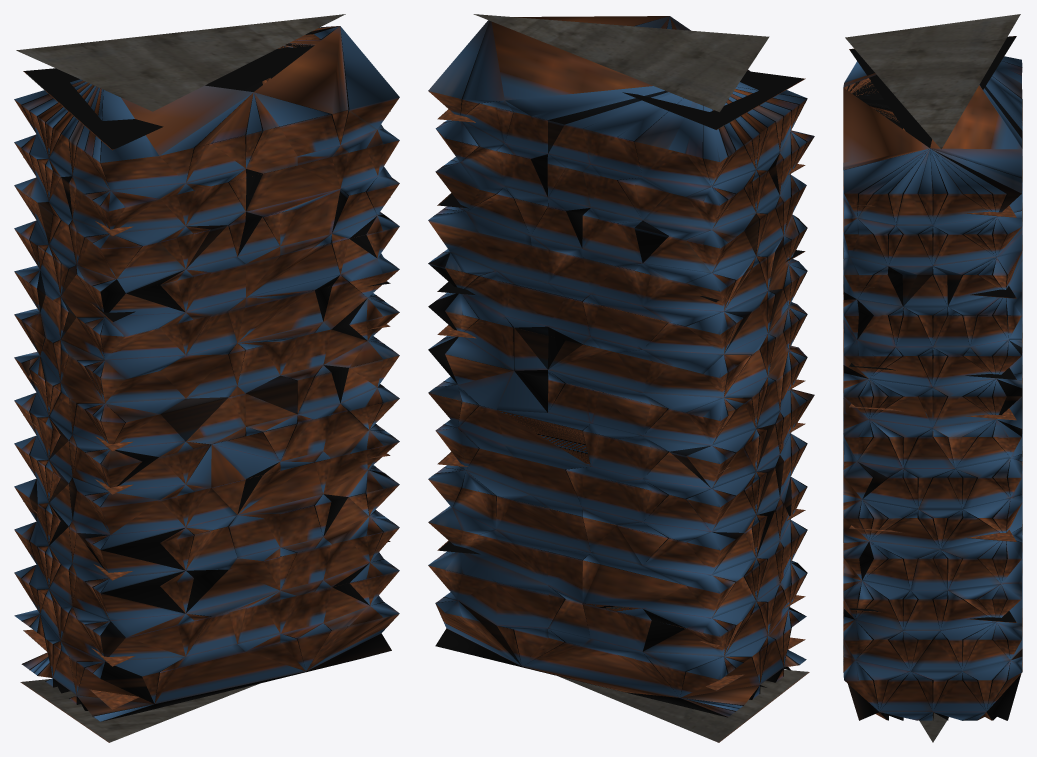
3 views of the same model, side by side, from view 1: azimuth 30°, elevation 25°; view 2: azimuth 150°, elevation 25°; view 3: azimuth 270°, elevation 25° (orthographic). The views are drawn at different scales.
Visible parts, largest first — view 1: Building-Big-Wide-02-BAKED.001; view 2: Building-Big-Wide-02-BAKED.001; view 3: Building-Big-Wide-02-BAKED.001.
Part boxes in pixels (box(x1,y1,x2,y2)): Building-Big-Wide-02-BAKED.001: box(14, 14, 399, 742); Building-Big-Wide-02-BAKED.001: box(428, 14, 814, 742); Building-Big-Wide-02-BAKED.001: box(843, 14, 1022, 742).
Size of the model in its own units: 34.04 by 70.5 by 19.18.
Materials: 1 (1 with a texture image).
